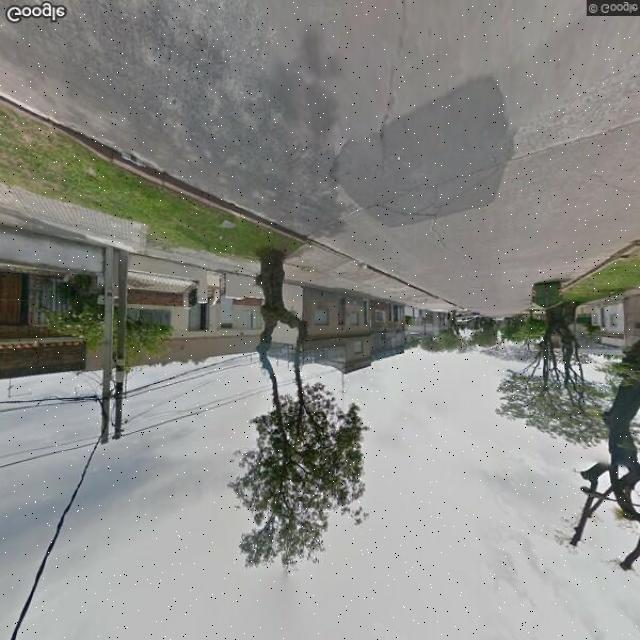garbage container: (527, 276, 571, 316)
